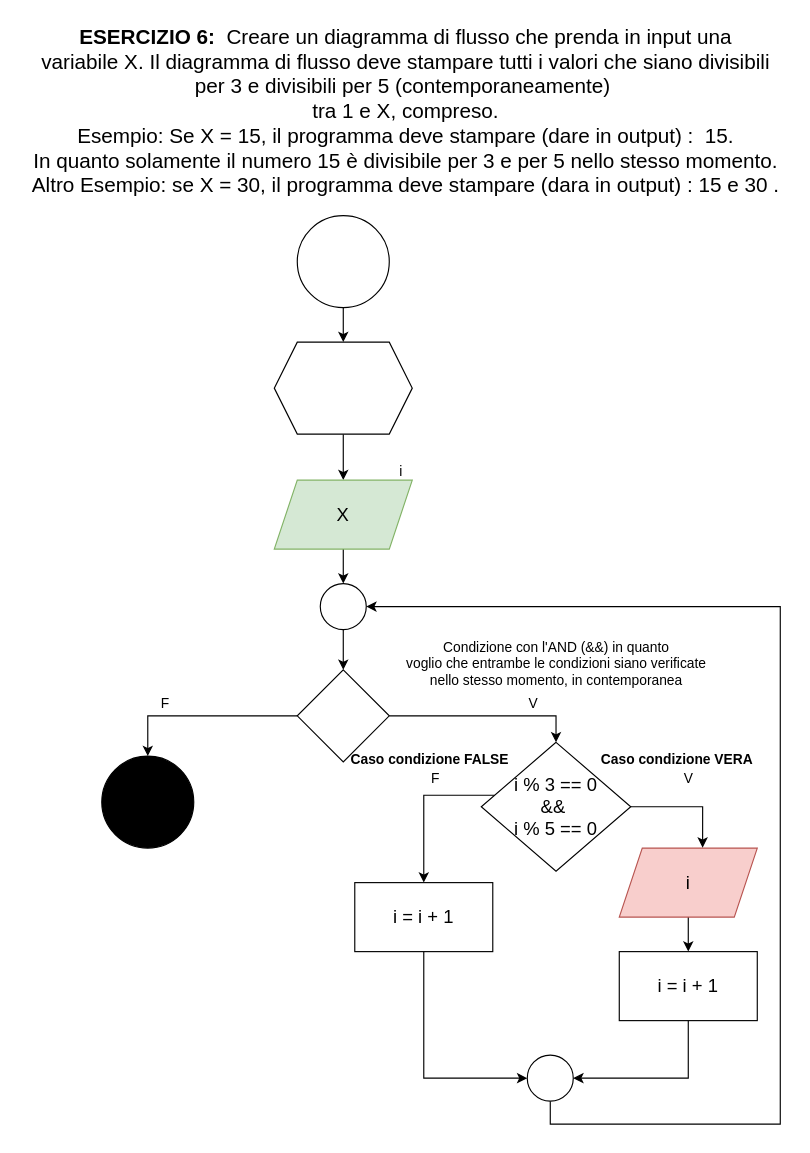
Some shapes in this 810 by 1153 pixel diagram are drawn without their labels. The centre of each missing label's shape, as x and y in pixels:
"i <= X" belongs at (342,715).
"X, i = 1" belongs at (342,387).
